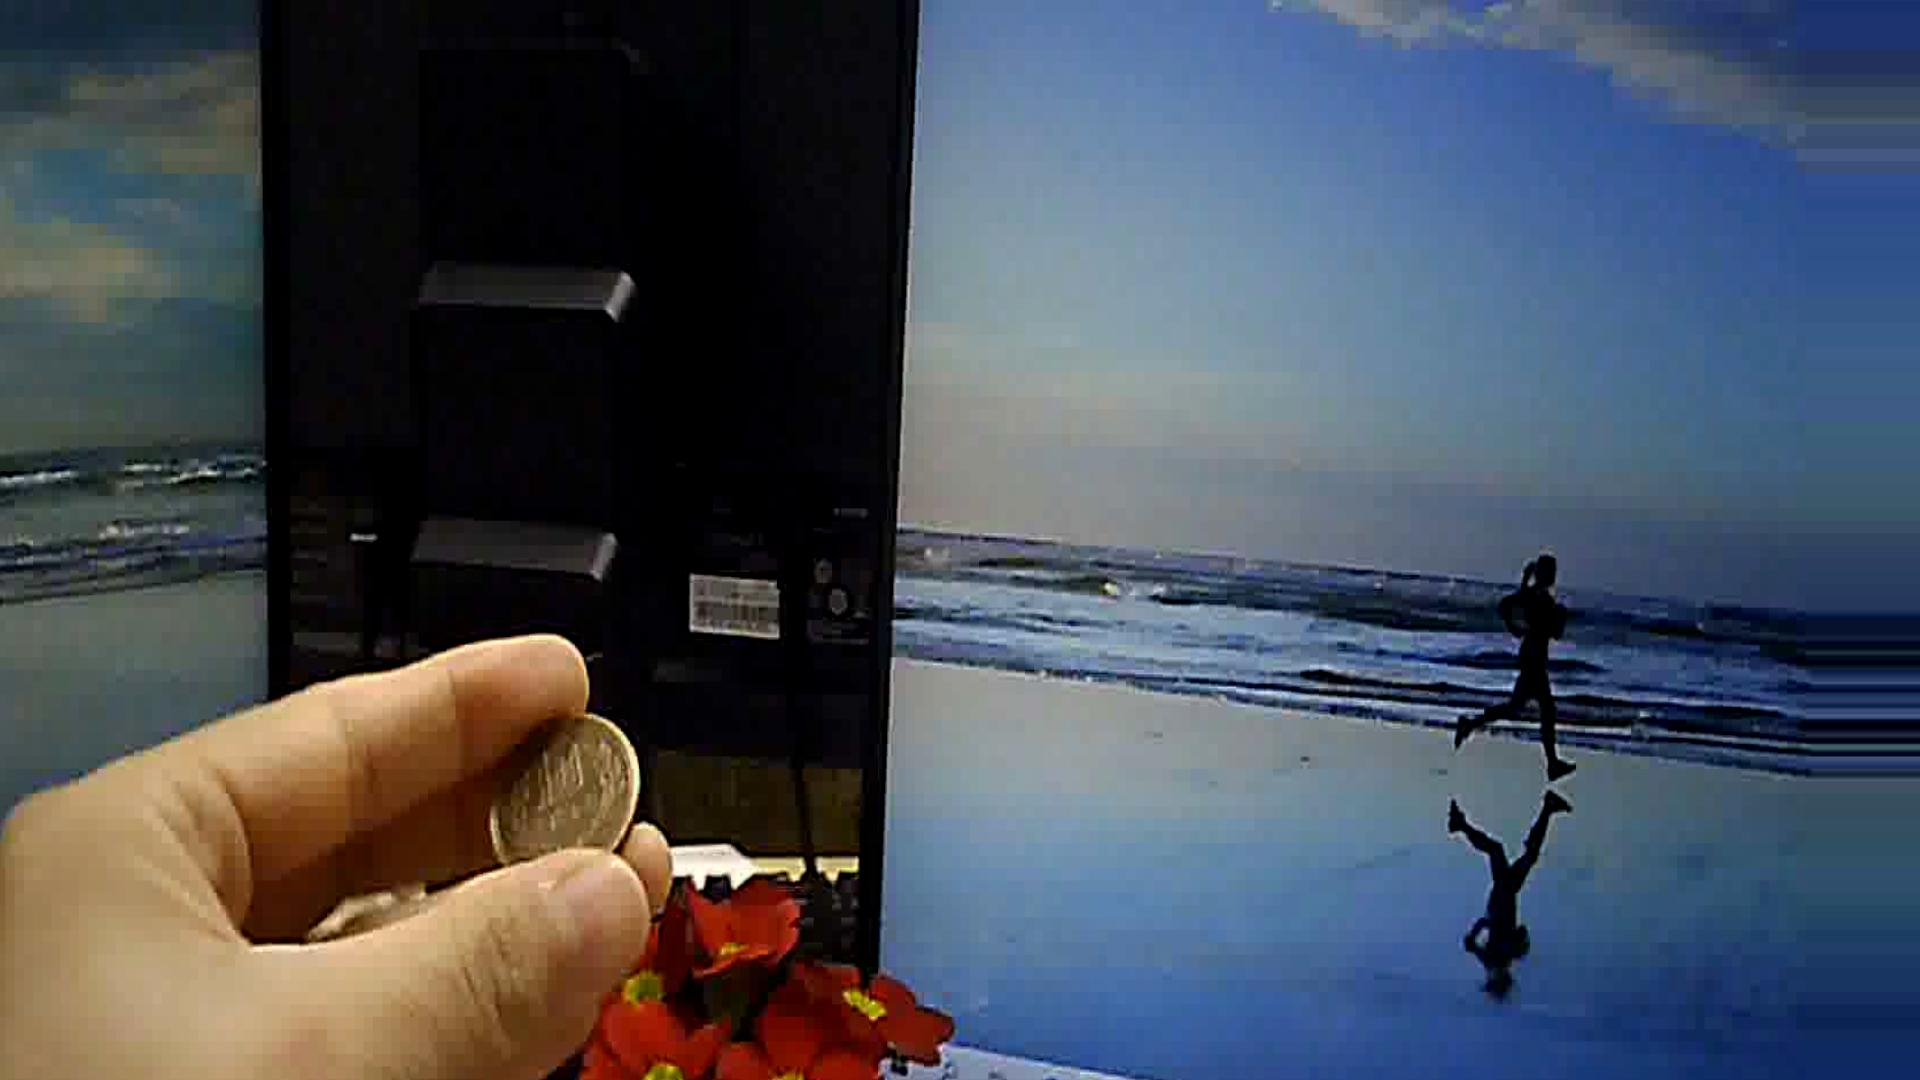10 Yen: (460, 705, 632, 862)
